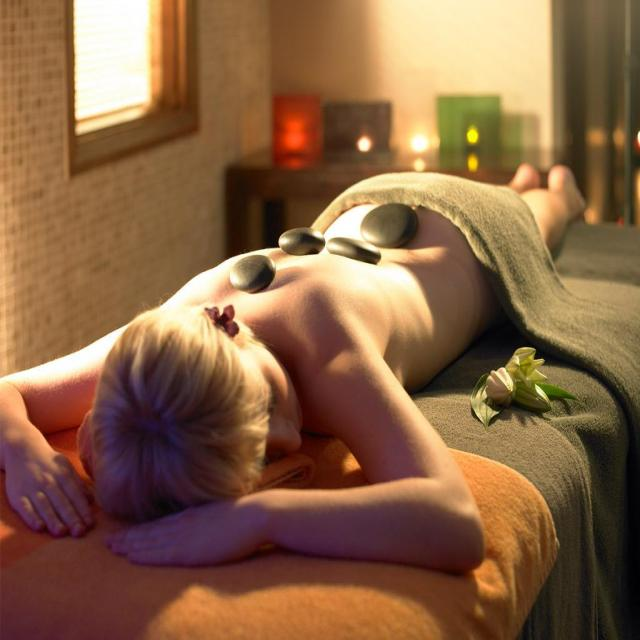nomask: (172, 347, 308, 477)
